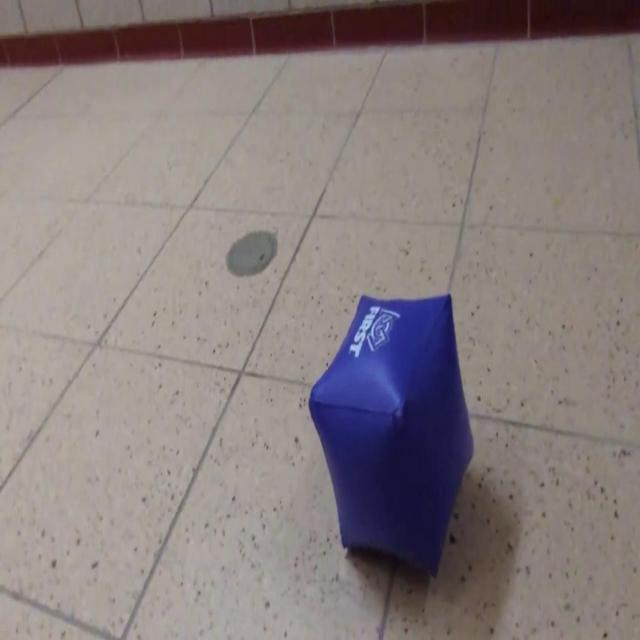frc_cube: (308, 291, 474, 577)
